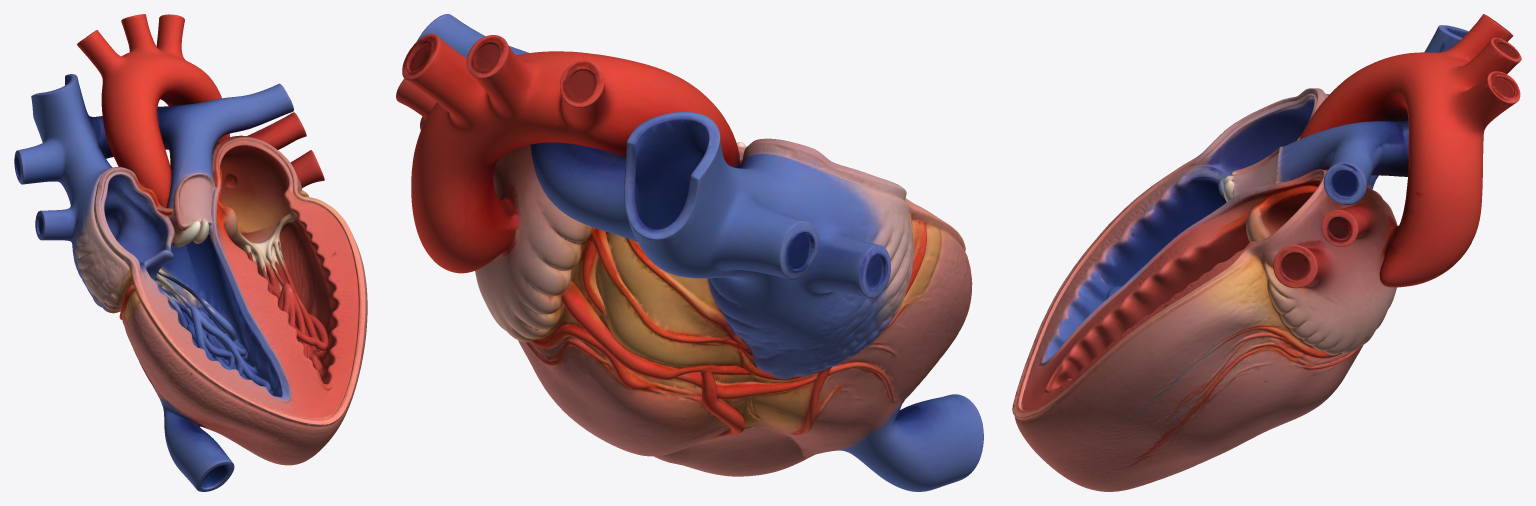
The model's file is heart.glb.
3 views of the same model, side by side, from view 1: azimuth 30°, elevation 25°; view 2: azimuth 150°, elevation 25°; view 3: azimuth 270°, elevation 25° (orthographic). The views are drawn at different scales.
Parts seen in each view (by area): view 1: node_0; view 2: node_0; view 3: node_0.
Part boxes in pixels (x1,y1,x2,y2): node_0: (14, 14, 367, 491); node_0: (396, 14, 983, 491); node_0: (1012, 14, 1521, 491).
Size of the model in its own units: 0.7092 by 0.8658 by 0.8905.
1 material, 1 textured.
